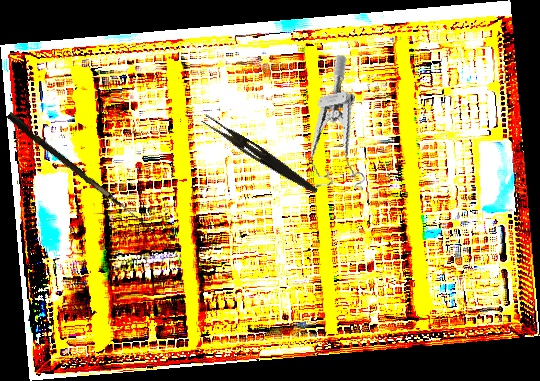Dressing Forceps: (198, 113, 322, 196)
Hook Surgical: (4, 111, 158, 232)
Speculum: (287, 52, 377, 203)
